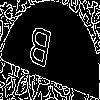B: (25, 24, 53, 77)
